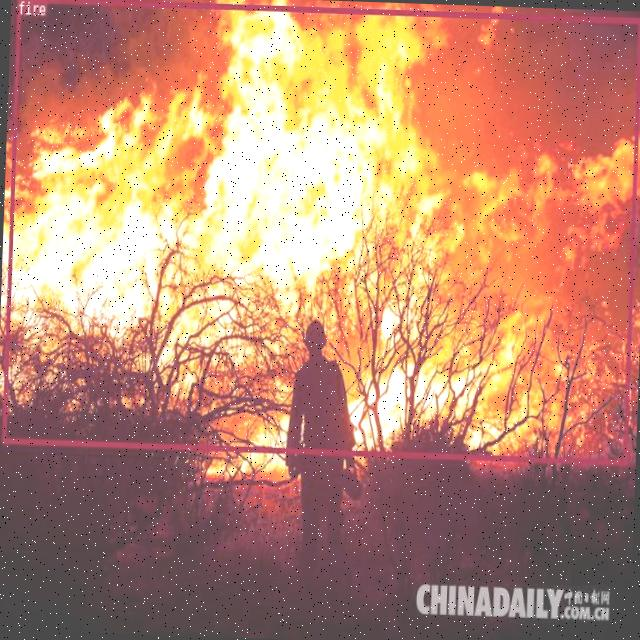fire: (1, 0, 640, 463)
